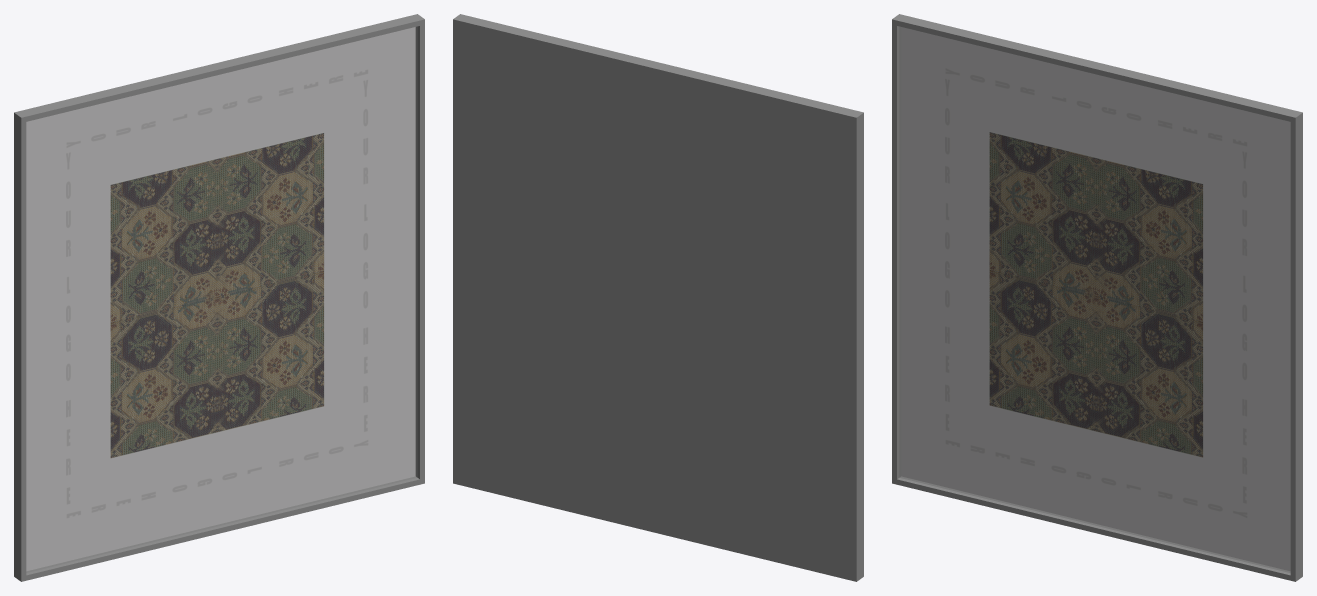
File: CR06_Frame04.FBX
3 views of the same model, side by side, from view 1: azimuth 30°, elevation 25°; view 2: azimuth 150°, elevation 25°; view 3: azimuth 330°, elevation 25° (orthographic).
Visible parts, largest first — view 1: CR06_Frame04_Glass, CR06_Frame04_Photo, CR06_Frame04; view 2: CR06_Frame04; view 3: CR06_Frame04_Glass, CR06_Frame04_Photo, CR06_Frame04.
Boxes of the visible parts, left/top/right/bottom form: CR06_Frame04_Glass: left=26, top=27, right=417, bottom=572; CR06_Frame04_Photo: left=26, top=27, right=415, bottom=571; CR06_Frame04: left=14, top=14, right=424, bottom=581; CR06_Frame04: left=453, top=14, right=863, bottom=581; CR06_Frame04_Glass: left=899, top=27, right=1290, bottom=572; CR06_Frame04_Photo: left=901, top=27, right=1290, bottom=571; CR06_Frame04: left=892, top=14, right=1302, bottom=581.
Size of the model in its own units: 1595 by 1753 by 50.
